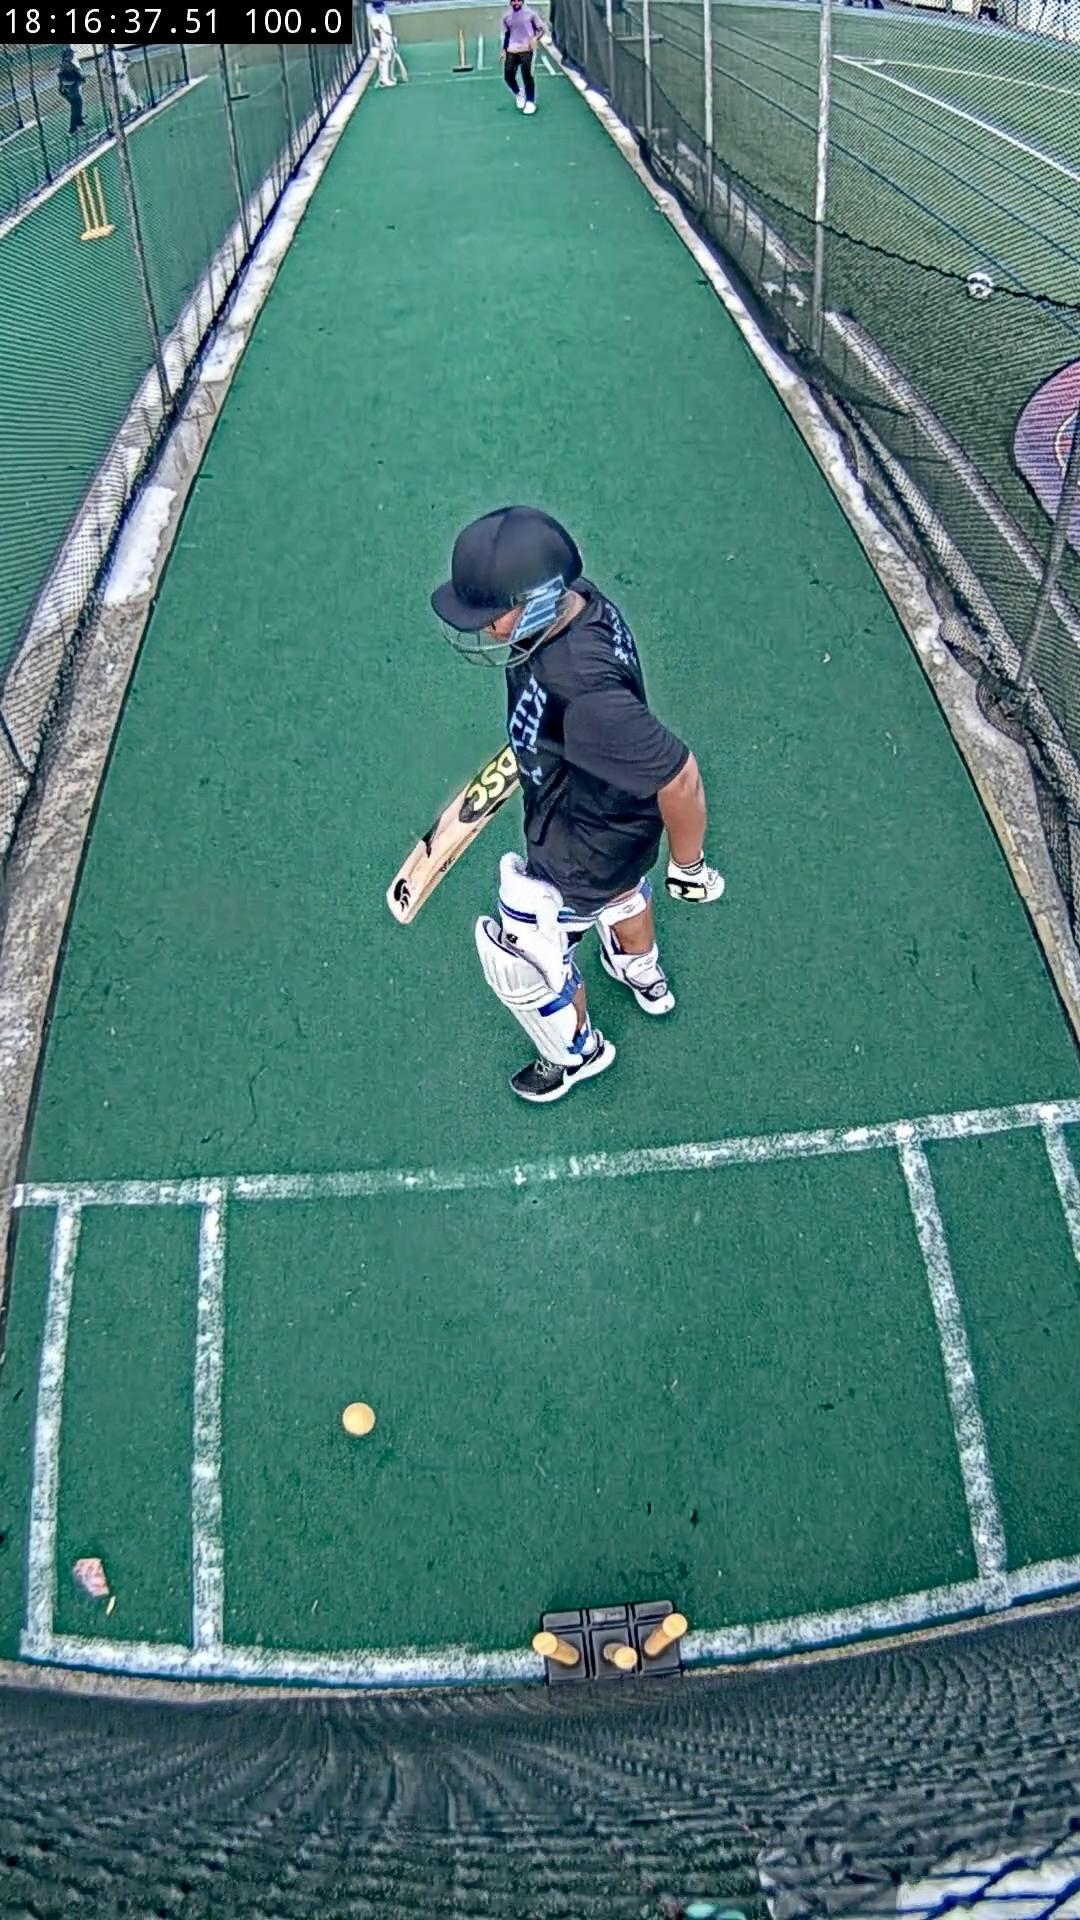ball: (342, 1403, 375, 1436)
bat: (386, 746, 521, 923)
gloves: (667, 862, 724, 903)
helmet: (431, 506, 582, 630)
pads: (476, 915, 585, 1065)
stumps: (537, 1597, 686, 1681)
